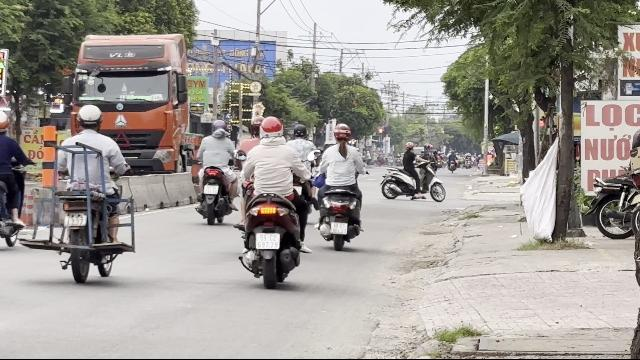helmet: (76, 105, 102, 132), (260, 115, 284, 141), (333, 122, 351, 142), (210, 119, 226, 135)
licenseplate: (256, 233, 280, 249), (64, 212, 86, 226), (330, 221, 348, 234), (204, 186, 218, 194)
motorcyclist: (51, 102, 137, 282), (232, 114, 312, 286), (313, 121, 367, 249), (192, 118, 238, 224)
